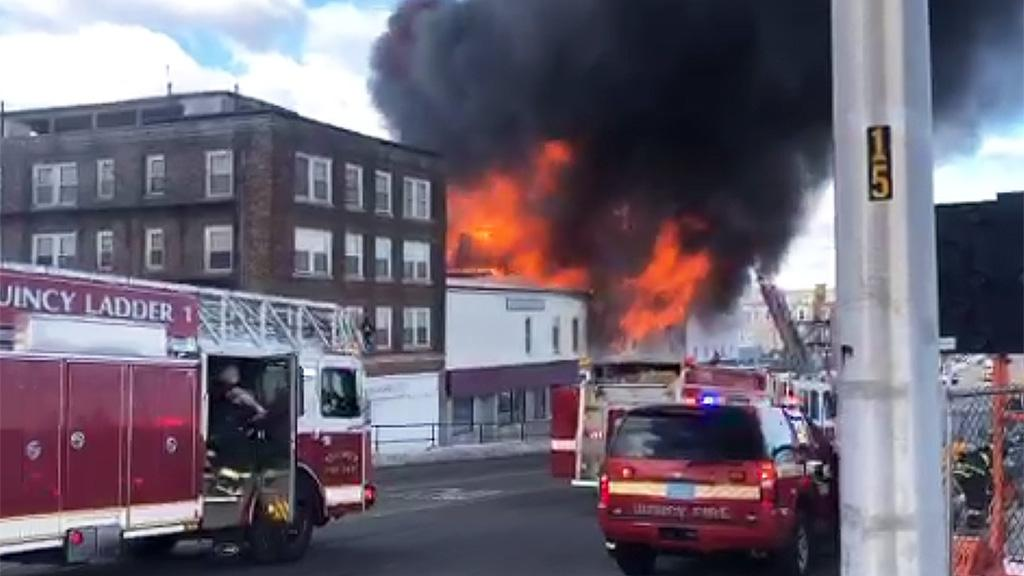Fire: (436, 129, 743, 368)
